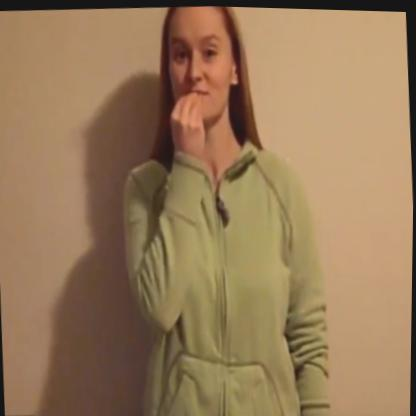Food: (119, 3, 311, 243)
